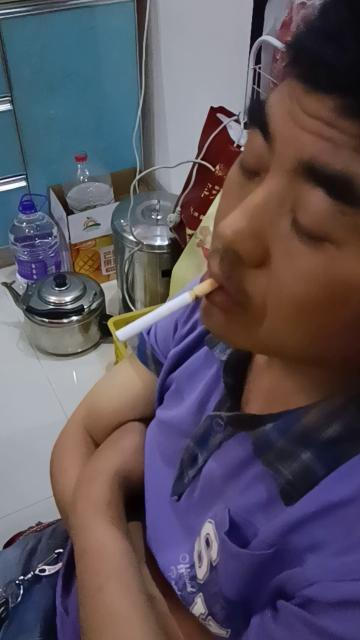Cigarette: (116, 278, 219, 344)
